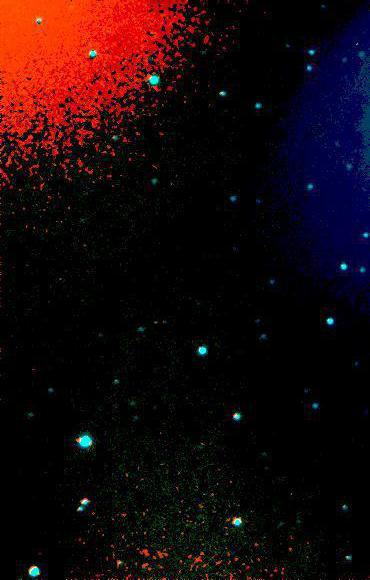star: (140, 304, 170, 334)
